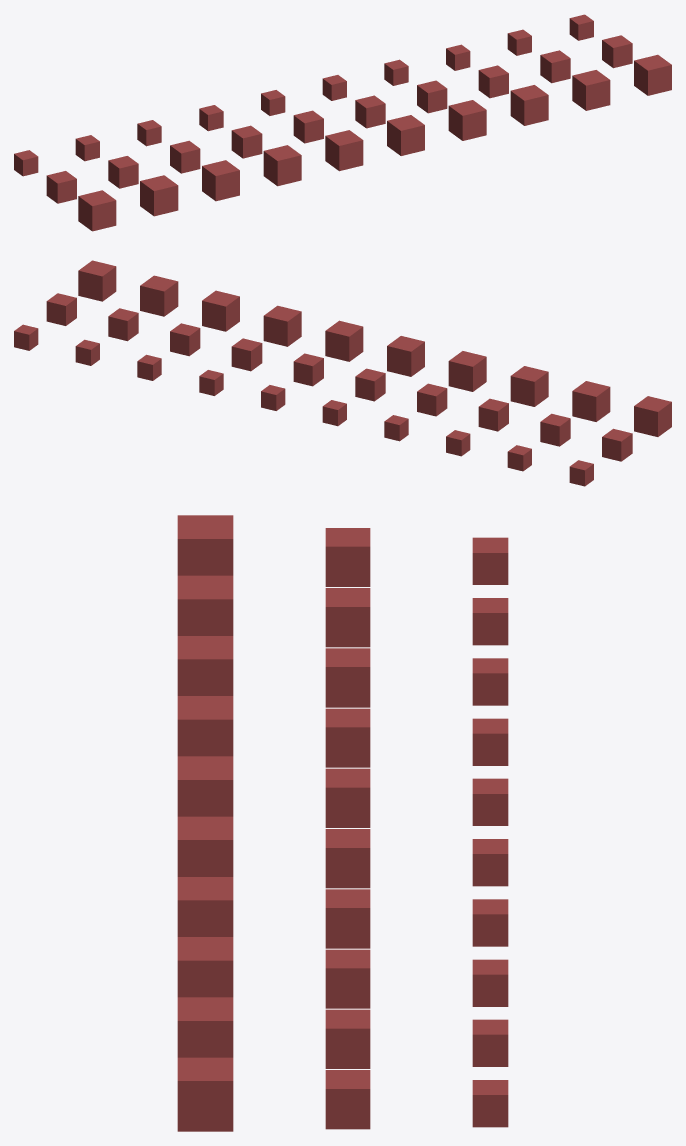
The model's file is FlowersLvl4Exotic.fbx.
The picture shows the model from 3 angles, top to bottom: view 1: azimuth 30°, elevation 25°; view 2: azimuth 150°, elevation 25°; view 3: azimuth 270°, elevation 25°; orthographic projection. The views are drawn at different scales.
Visible parts, largest first — view 1: Plumeria3, Cyclamen3, Guzmania3, Calceolaria3, Pedilanthus3, Echeveria3, Gardenia3, Adenium3, Medinilla3, Poinsettia3, Plumeria2, Calceolaria2 (+18 smaller); view 2: Calceolaria3, Gardenia3, Poinsettia3, Adenium3, Medinilla3, Plumeria3, Cyclamen3, Pedilanthus3, Echeveria3, Guzmania3, Calceolaria2, Adenium2 (+18 smaller); view 3: Adenium3, Gardenia3, Pedilanthus3, Echeveria3, Guzmania3, Medinilla3, Plumeria3, Cyclamen3, Calceolaria3, Poinsettia3, Calceolaria2, Poinsettia2 (+18 smaller).
Part boxes in pixels (x1,y1,x2,y2): Plumeria3: [263, 145, 301, 186]; Cyclamen3: [140, 175, 178, 216]; Guzmania3: [510, 85, 548, 125]; Calceolaria3: [448, 100, 486, 140]; Pedilanthus3: [325, 130, 363, 171]; Echeveria3: [78, 190, 116, 231]; Gardenia3: [572, 70, 610, 110]; Adenium3: [634, 54, 671, 95]; Medinilla3: [387, 115, 424, 155]; Poinsettia3: [202, 160, 239, 201]; Plumeria2: [231, 125, 262, 158]; Calceolaria2: [417, 80, 447, 113]; Calceolaria3: [263, 305, 301, 346]; Gardenia3: [140, 275, 178, 316]; Poinsettia3: [510, 366, 548, 406]; Adenium3: [78, 260, 116, 301]; Medinilla3: [325, 320, 363, 361]; Plumeria3: [448, 351, 486, 391]; Cyclamen3: [572, 381, 610, 421]; Pedilanthus3: [387, 336, 424, 376]; Echeveria3: [634, 396, 671, 436]; Guzmania3: [202, 290, 239, 331]; Calceolaria2: [231, 338, 262, 371]; Adenium2: [46, 293, 76, 325]; Adenium3: [177, 1057, 233, 1131]; Gardenia3: [177, 997, 233, 1057]; Pedilanthus3: [177, 756, 233, 816]; Echeveria3: [177, 515, 233, 575]; Guzmania3: [177, 937, 233, 997]; Medinilla3: [177, 816, 233, 876]; Plumeria3: [177, 696, 233, 756]; Cyclamen3: [177, 575, 233, 635]; Calceolaria3: [177, 877, 233, 936]; Poinsettia3: [177, 636, 233, 695]; Calceolaria2: [325, 889, 370, 948]; Poinsettia2: [325, 648, 370, 707].
Size of the model in its own units: 939 by 39.06 by 232.
